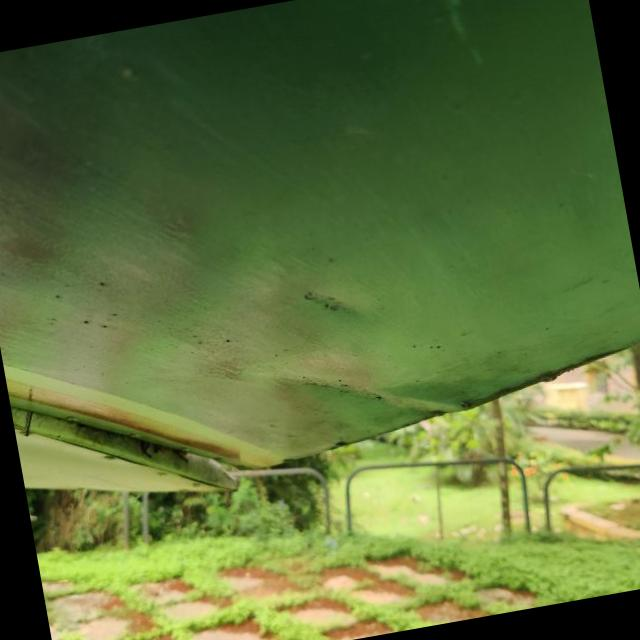Dent: (254, 302, 503, 458), (302, 289, 358, 314)
